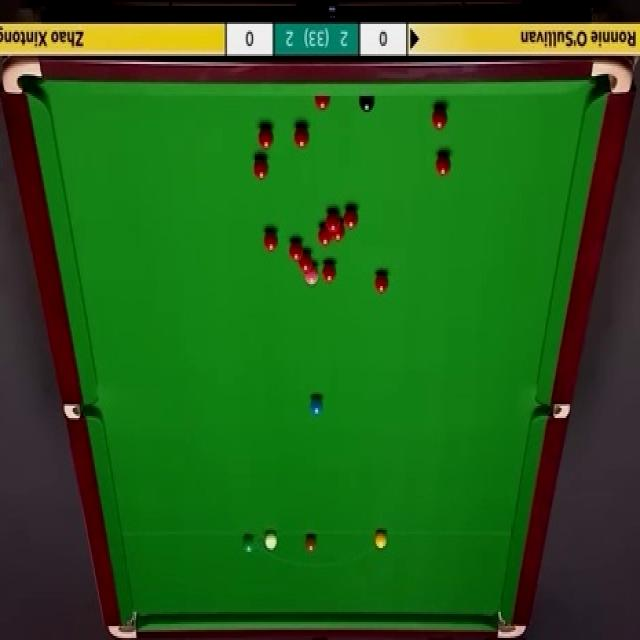black-ball: (359, 93, 375, 116)
blue-ball: (310, 396, 322, 415)
brown-ball: (305, 532, 317, 551)
green-ball: (242, 530, 256, 552)
pink-ball: (304, 266, 320, 288)
red-ball: (257, 124, 275, 152), (253, 155, 270, 182), (293, 125, 309, 152), (435, 153, 452, 178), (374, 270, 390, 296), (432, 107, 448, 132), (288, 236, 304, 261), (322, 261, 337, 285), (263, 229, 278, 253), (343, 208, 359, 230), (316, 225, 331, 248), (326, 211, 340, 235), (298, 254, 313, 272), (315, 96, 331, 111), (331, 225, 344, 243)
white-ball: (264, 530, 279, 554)
yellow-ball: (375, 530, 388, 552)
